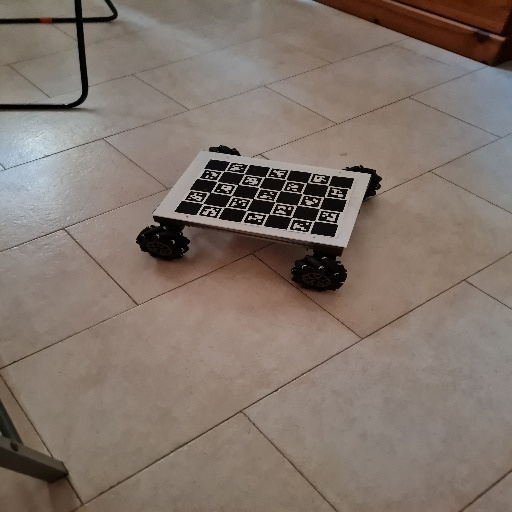Omniwheel: (139, 146, 383, 293)
